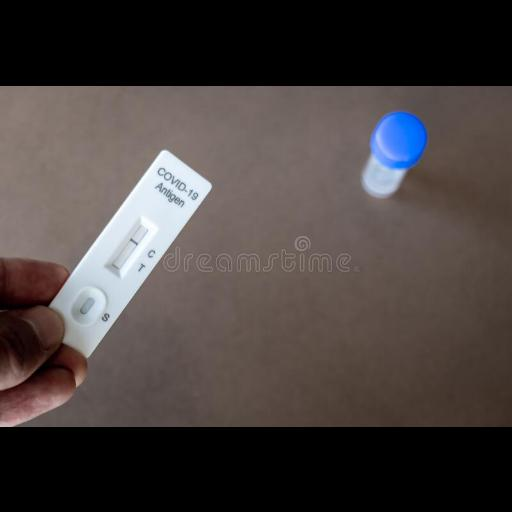Neg: (37, 149, 214, 357)
